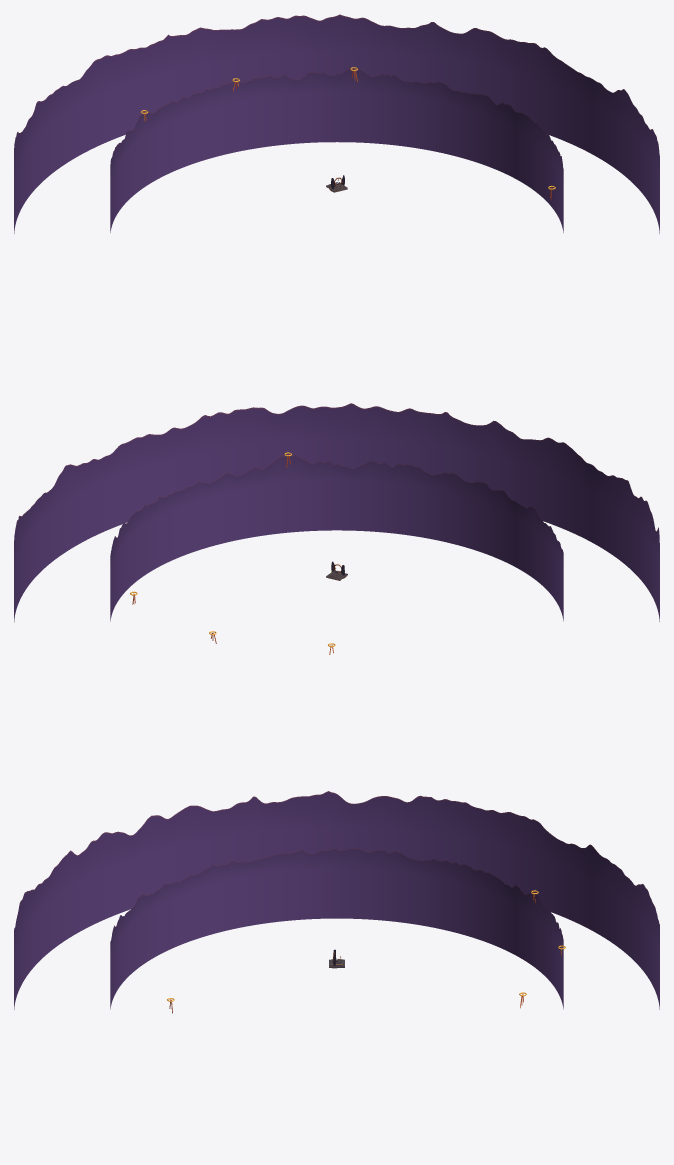
Rendered from sacrifices.glb.
3 renders of one model, top to bottom at view 1: azimuth 30°, elevation 25°; view 2: azimuth 150°, elevation 25°; view 3: azimuth 270°, elevation 25°, orthographic.
Visible parts, largest first — view 1: horizon-far, horizon-near; view 2: horizon-far, horizon-near; view 3: horizon-far, horizon-near.
Part boxes in pixels (x1,y1,x2,y2): horizon-far: [14, 14, 659, 233]; horizon-near: [110, 67, 563, 232]; horizon-far: [14, 403, 659, 622]; horizon-near: [110, 452, 563, 654]; horizon-far: [14, 791, 659, 1009]; horizon-near: [110, 848, 565, 1013].
Size of the model in its own units: 470 by 70 by 470.
Materials: 21 (19 with a texture image).
